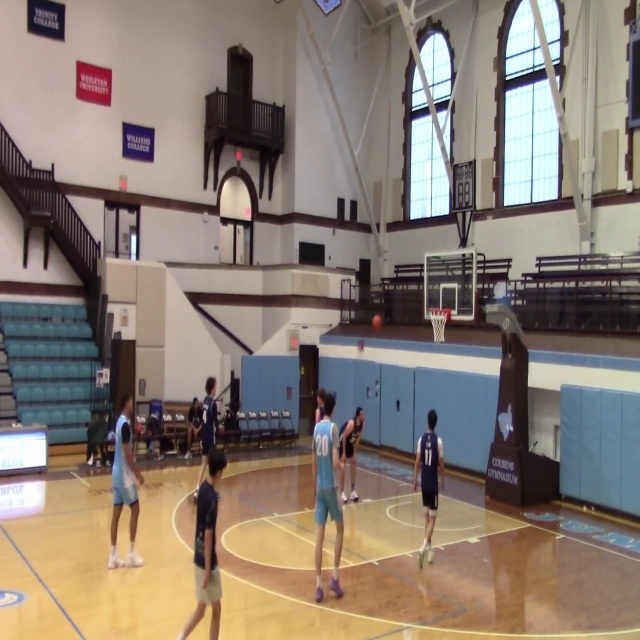Basketball: (371, 314, 382, 330)
